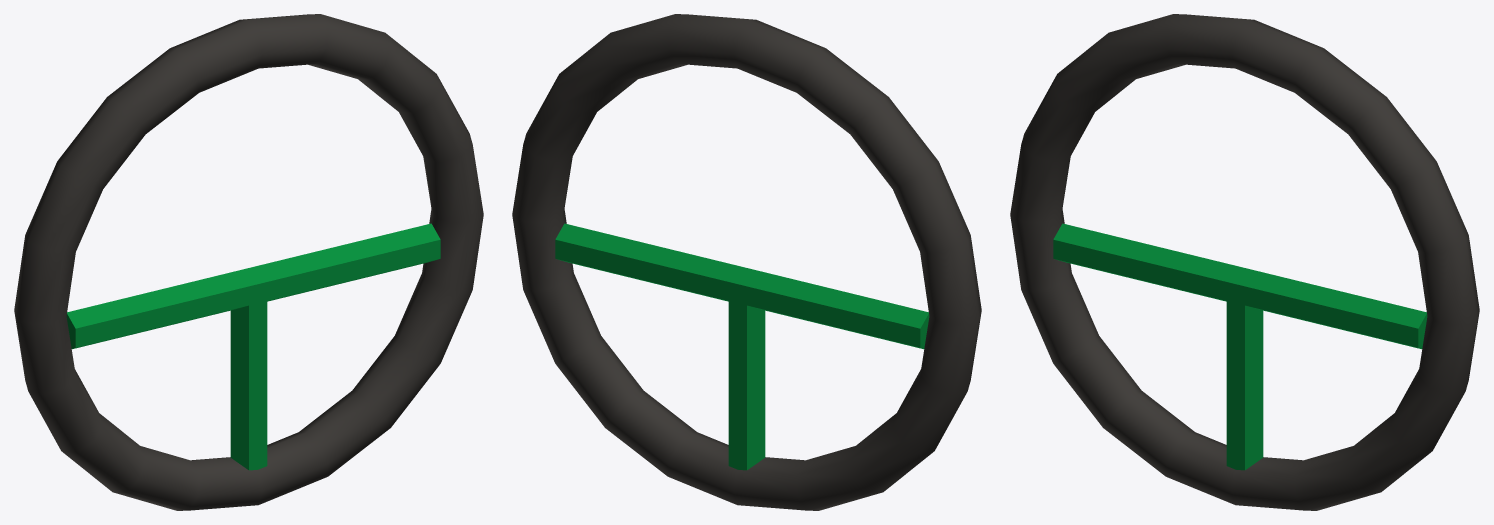
Rendered from P5_driver_training.glb.
3 views of the same model, side by side, from view 1: azimuth 30°, elevation 25°; view 2: azimuth 150°, elevation 25°; view 3: azimuth 330°, elevation 25° (orthographic).
Parts seen in each view (by area): view 1: tyre_ink, wheel-spoke_green; view 2: tyre_ink, wheel-spoke_green; view 3: tyre_ink, wheel-spoke_green.
Boxes of the visible parts, x1,y1,x2,y2 form: tyre_ink: (14,14,483,510); wheel-spoke_green: (66,223,440,470); tyre_ink: (512,14,981,510); wheel-spoke_green: (555,223,929,470); tyre_ink: (1010,14,1479,510); wheel-spoke_green: (1053,223,1427,470).
Bounding box in the file's own units: 0.89 × 0.89 × 0.09.
